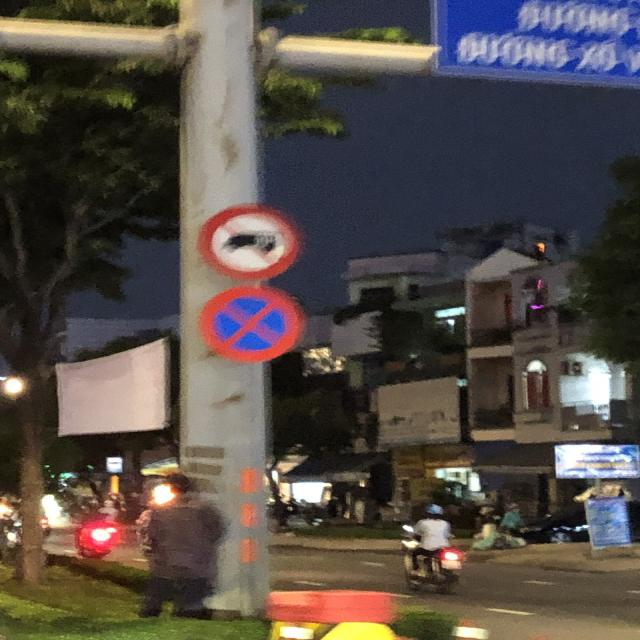Bien bao cam dung xe va do xe: (194, 285, 308, 368)
